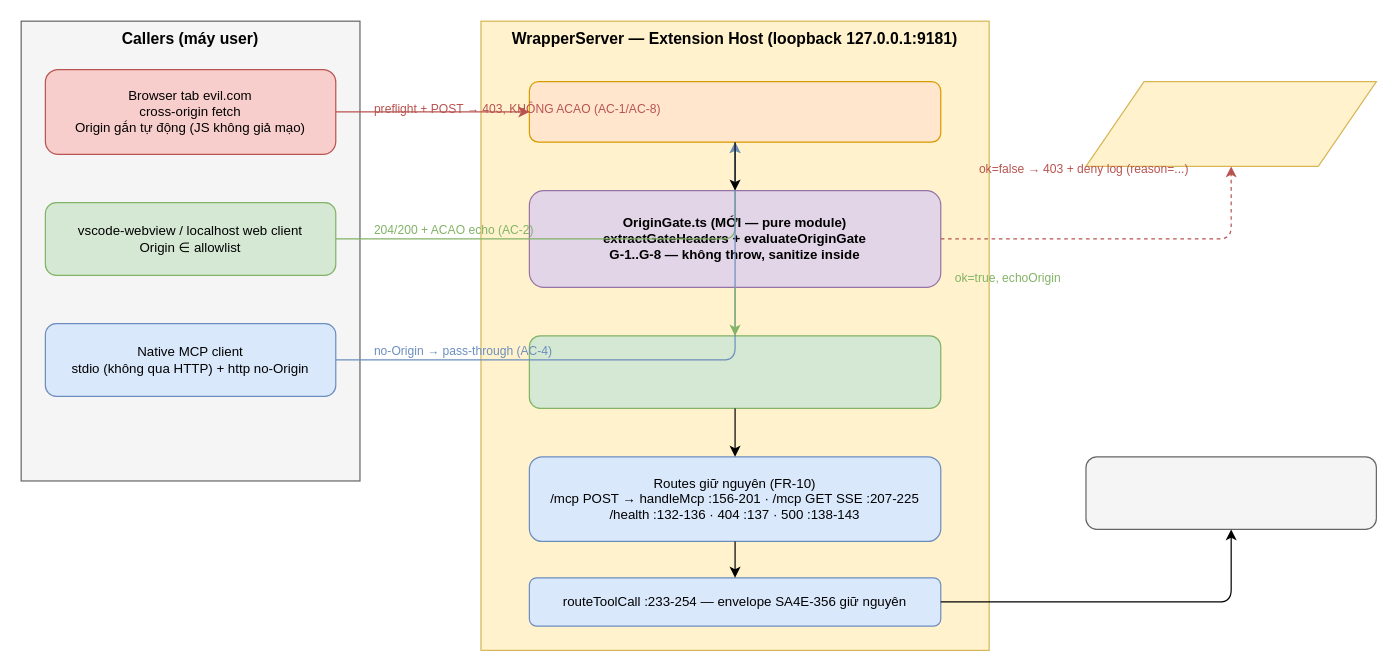
Some shapes in this 1398 by 672 pixel diagram are drawn without their labels. Here are the shapes that lost their labels. From the top down, the centre of each, then its label:
At [734,111]: "handleRequest :124 (điểm vào duy nhất)".
At [1230,123]: "outputChannel — deny log sanitizeLogText (PathResolver.ts:189)".
At [734,371]: "CORS echo layer setHeader ACAO/Methods/Headers CHỈ khi echoOrigin !== null".
At [1230,492]: "MCP Tools — Local tools + Backend REST".
